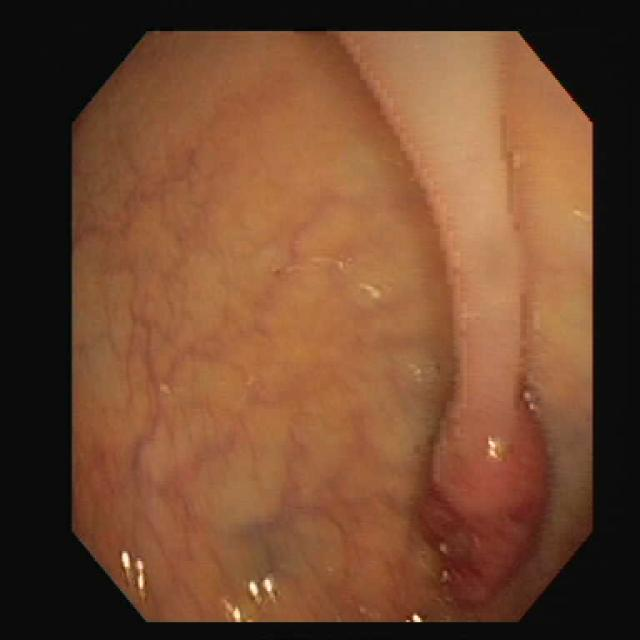tumor: (420, 382, 535, 540)
